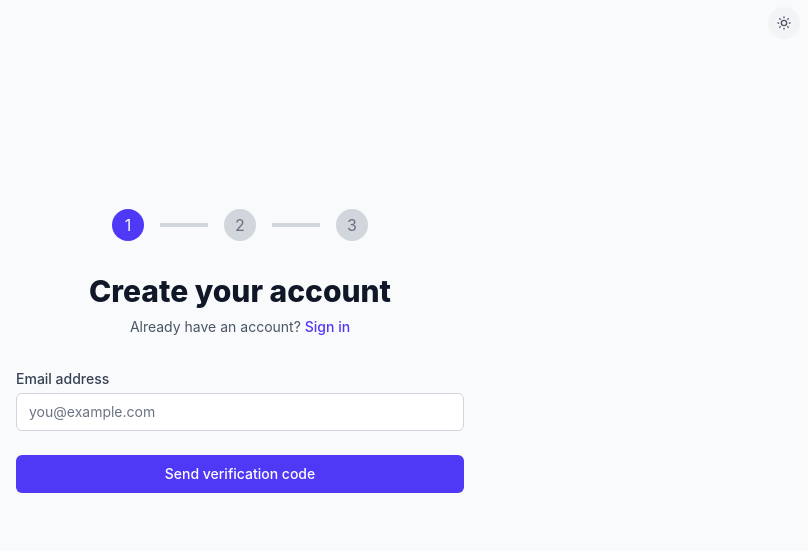
Test: RegisterPage › Step 1: Email › should display error on failure
Type "existing@example.com" into the field labelled "Email address".
click(240, 412); type("existing@example.com")  # box [16,393,464,431]
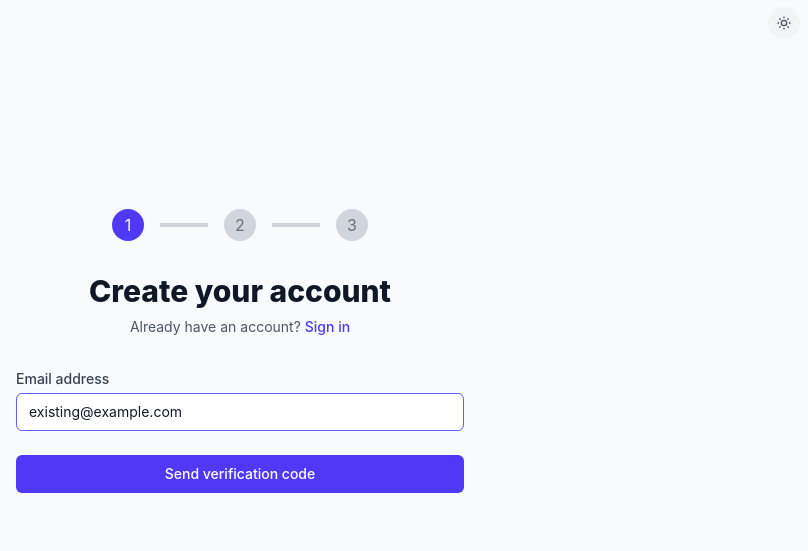
Click the button "Send verification code".
click(240, 474)  # box [16,455,464,493]
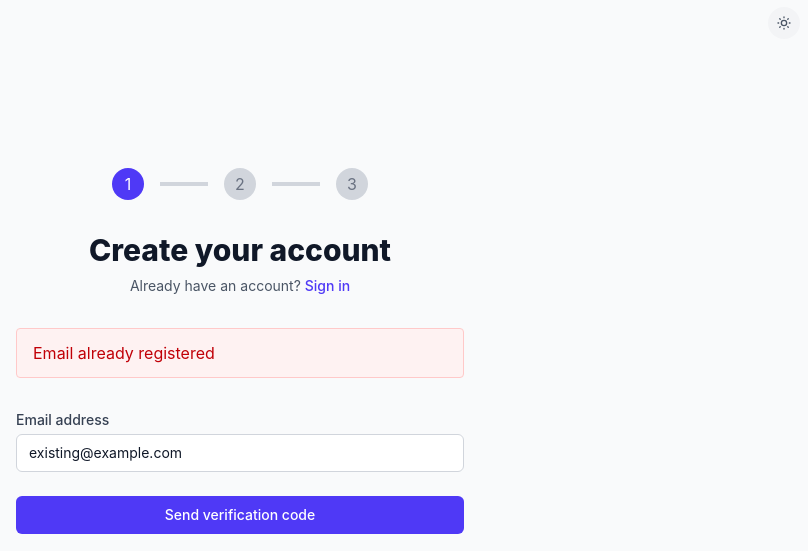
Expected: the text "Email already registered" is shown, [16,328,464,378]
